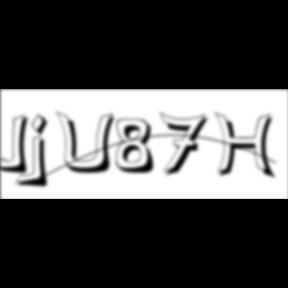7: (160, 111, 215, 179)
8: (116, 117, 161, 176)
H: (215, 112, 281, 182)
J: (1, 114, 36, 176)
U: (57, 110, 122, 176)
j: (29, 113, 56, 191)
